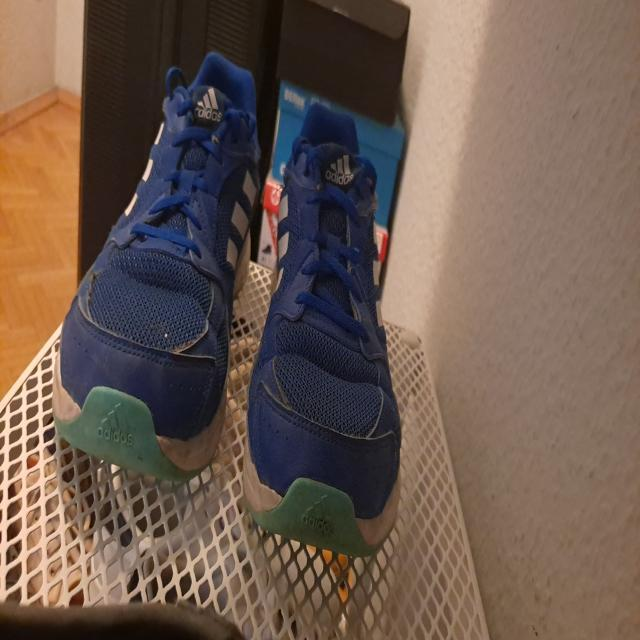shoes: (52, 48, 263, 484), (242, 104, 403, 558)
